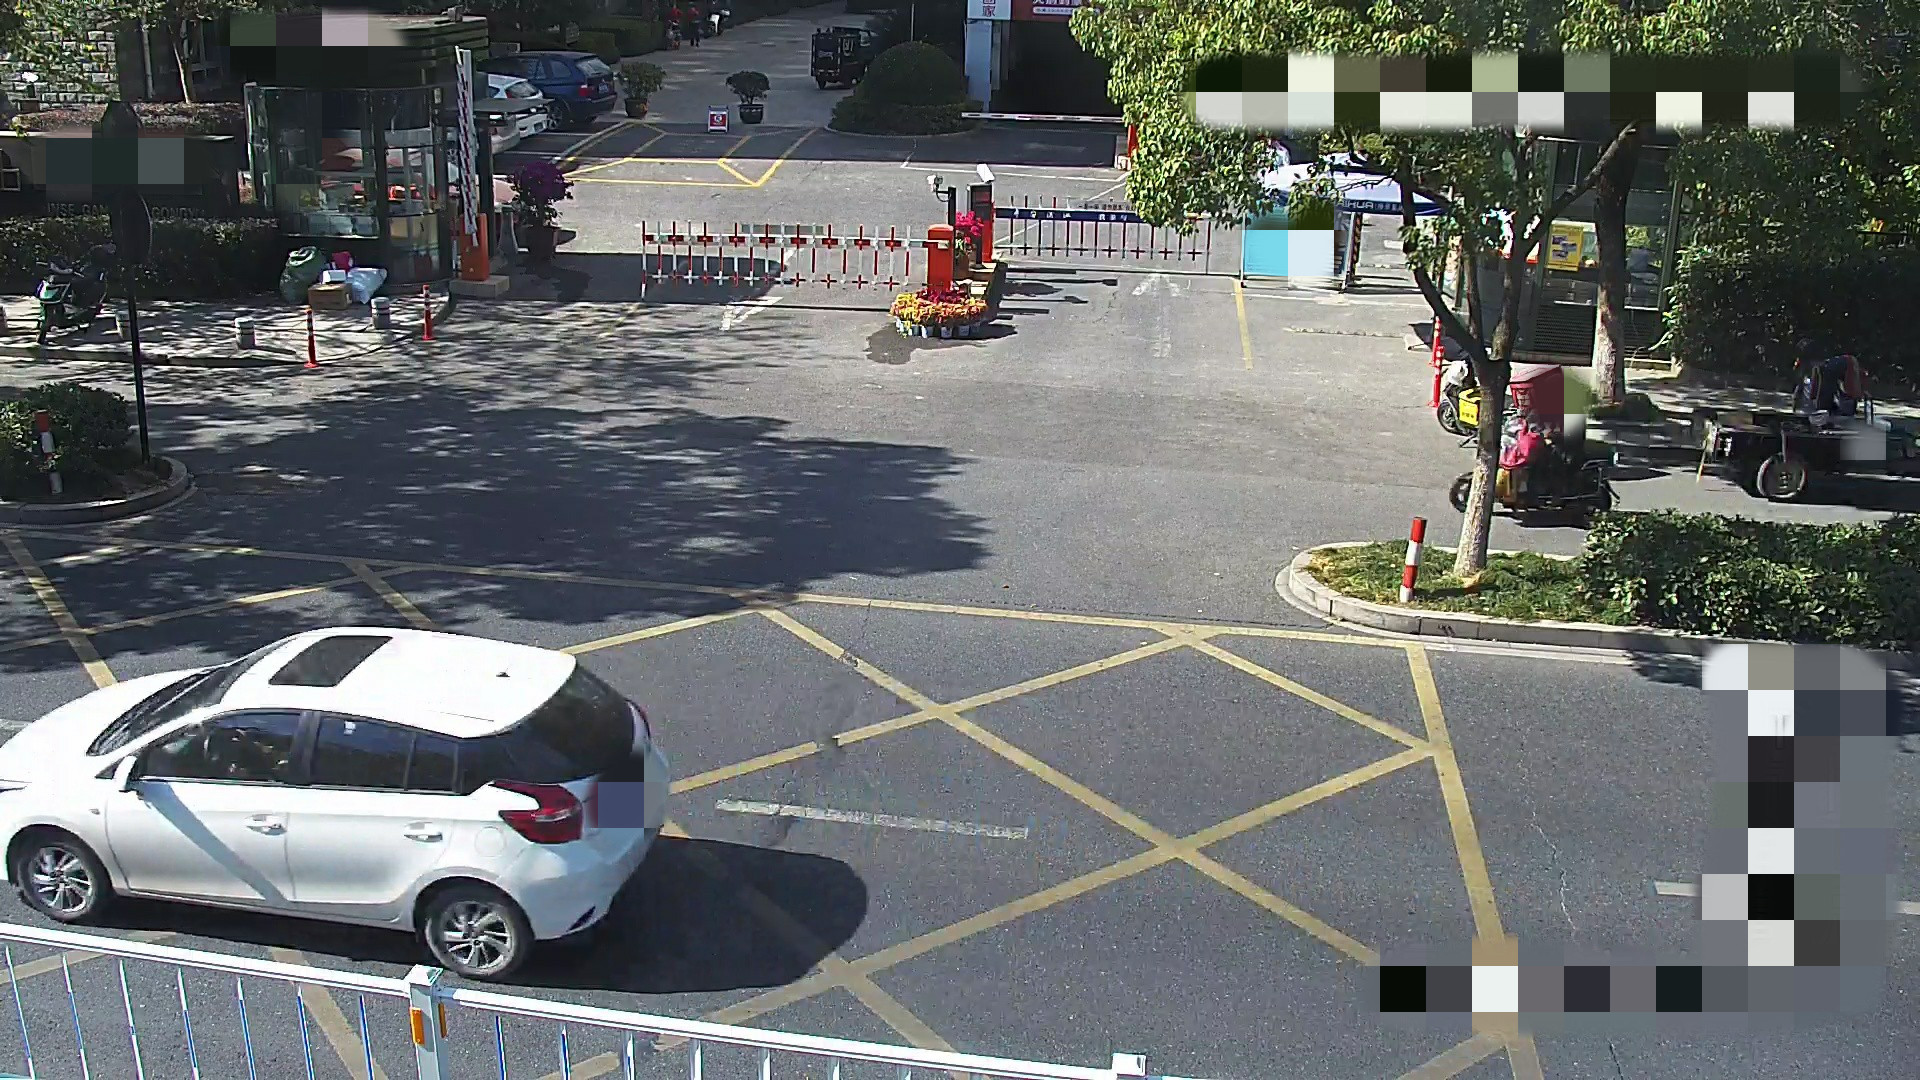auto_tricycle: (1689, 385, 1916, 504), (808, 25, 881, 91)
electric_scooter: (1448, 403, 1620, 523), (1435, 341, 1564, 451), (32, 241, 115, 346)
electric_scooter_person: (1443, 369, 1626, 528)
none_person_auto_tricycle: (1689, 385, 1916, 504), (808, 25, 881, 91)
none_person_electric_scooter: (1435, 341, 1564, 451), (32, 241, 115, 346)
rider: (1523, 373, 1590, 492)
